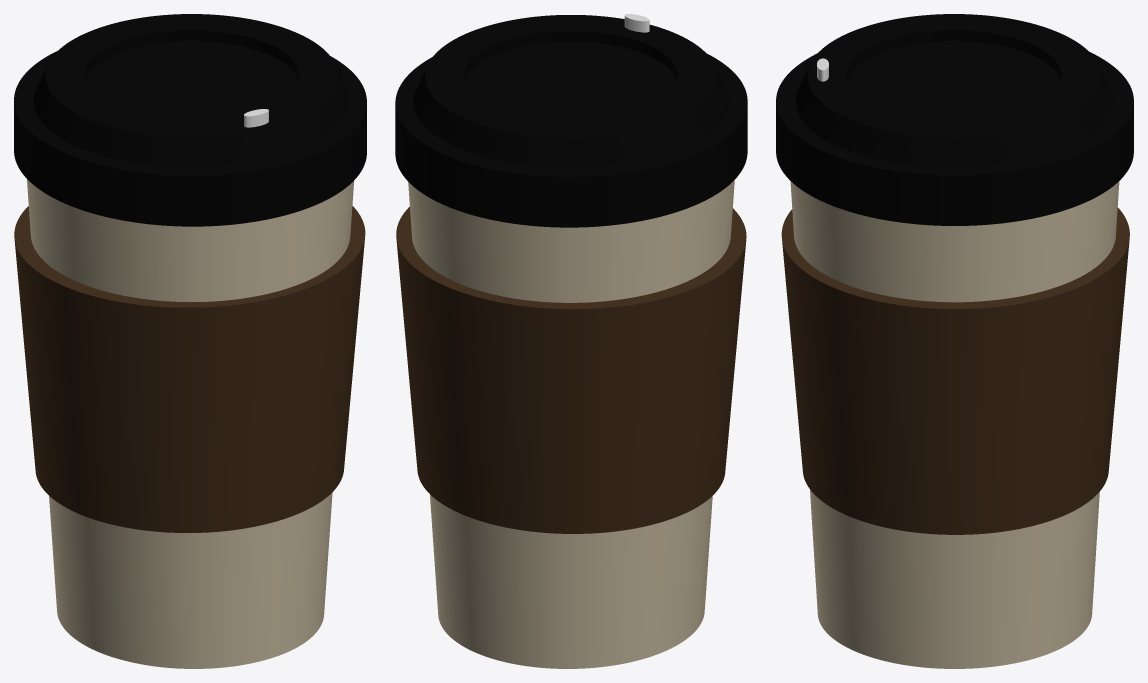
The model's file is coffee.fbx.
3 views of the same model, side by side, from view 1: azimuth 30°, elevation 25°; view 2: azimuth 150°, elevation 25°; view 3: azimuth 270°, elevation 25° (orthographic).
Parts seen in each view (by area): view 1: sleeve, Cup, üstkapak, altkapak; view 2: sleeve, Cup, üstkapak, altkapak; view 3: sleeve, Cup, üstkapak, altkapak.
Part boxes in pixels (x1=…): sleeve: x1=14, y1=206, x2=365, y2=532; Cup: x1=27, y1=179, x2=354, y2=668; üstkapak: x1=33, y1=14, x2=349, y2=167; altkapak: x1=14, y1=51, x2=366, y2=226; sleeve: x1=396, y1=206, x2=746, y2=533; Cup: x1=408, y1=180, x2=734, y2=668; üstkapak: x1=413, y1=15, x2=728, y2=168; altkapak: x1=395, y1=54, x2=747, y2=227; sleeve: x1=781, y1=207, x2=1129, y2=534; Cup: x1=790, y1=181, x2=1119, y2=668; üstkapak: x1=795, y1=14, x2=1112, y2=168; altkapak: x1=776, y1=52, x2=1133, y2=225.
Bounding box in the file's own units: 45.51 × 77.98 × 46.1.
